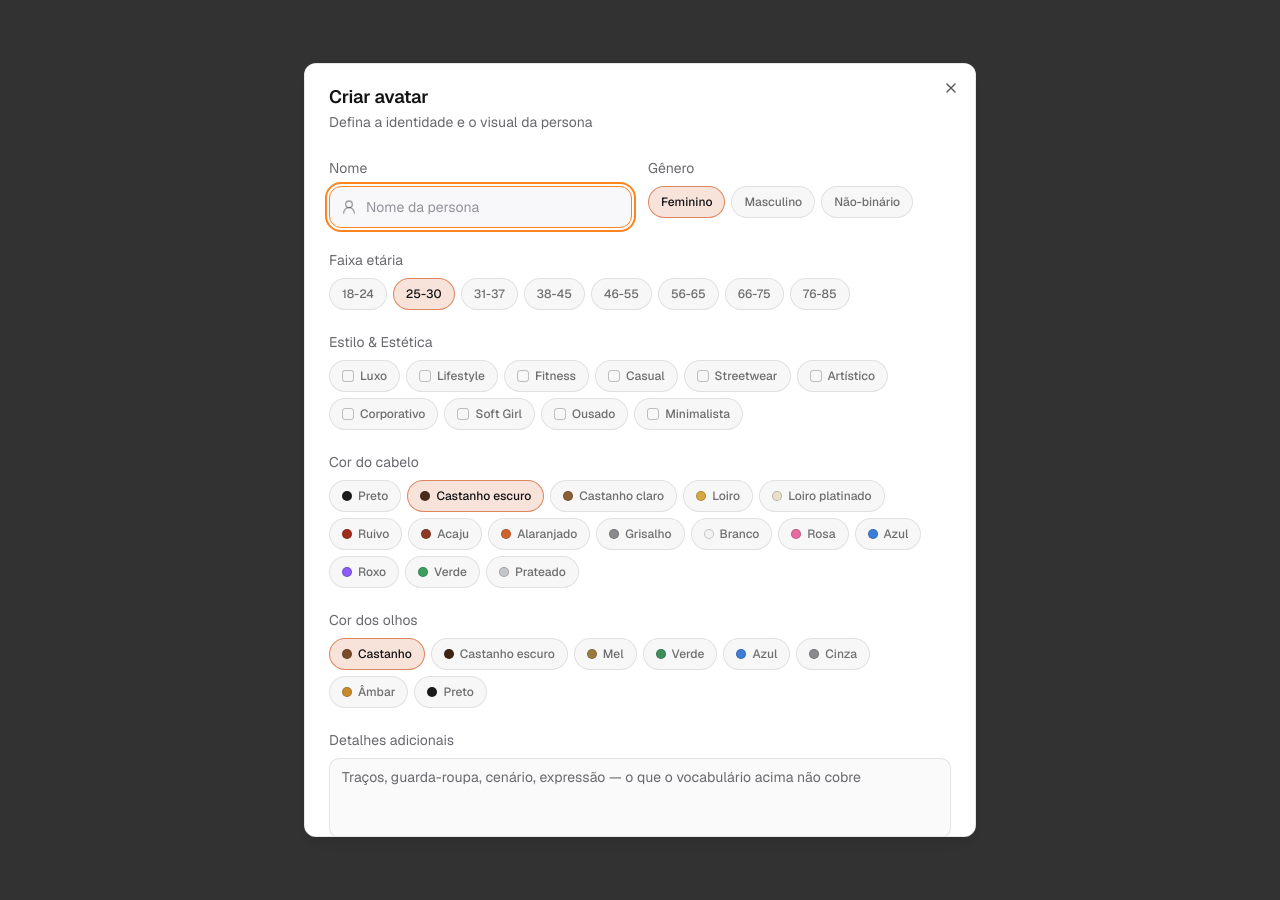
Scenario: AvatarCustomizerDialog › estilo acumula: escolher dois mantém os dois marcados
Click the button "Fitness". click: x=546, y=376
box: [504, 360, 589, 392]
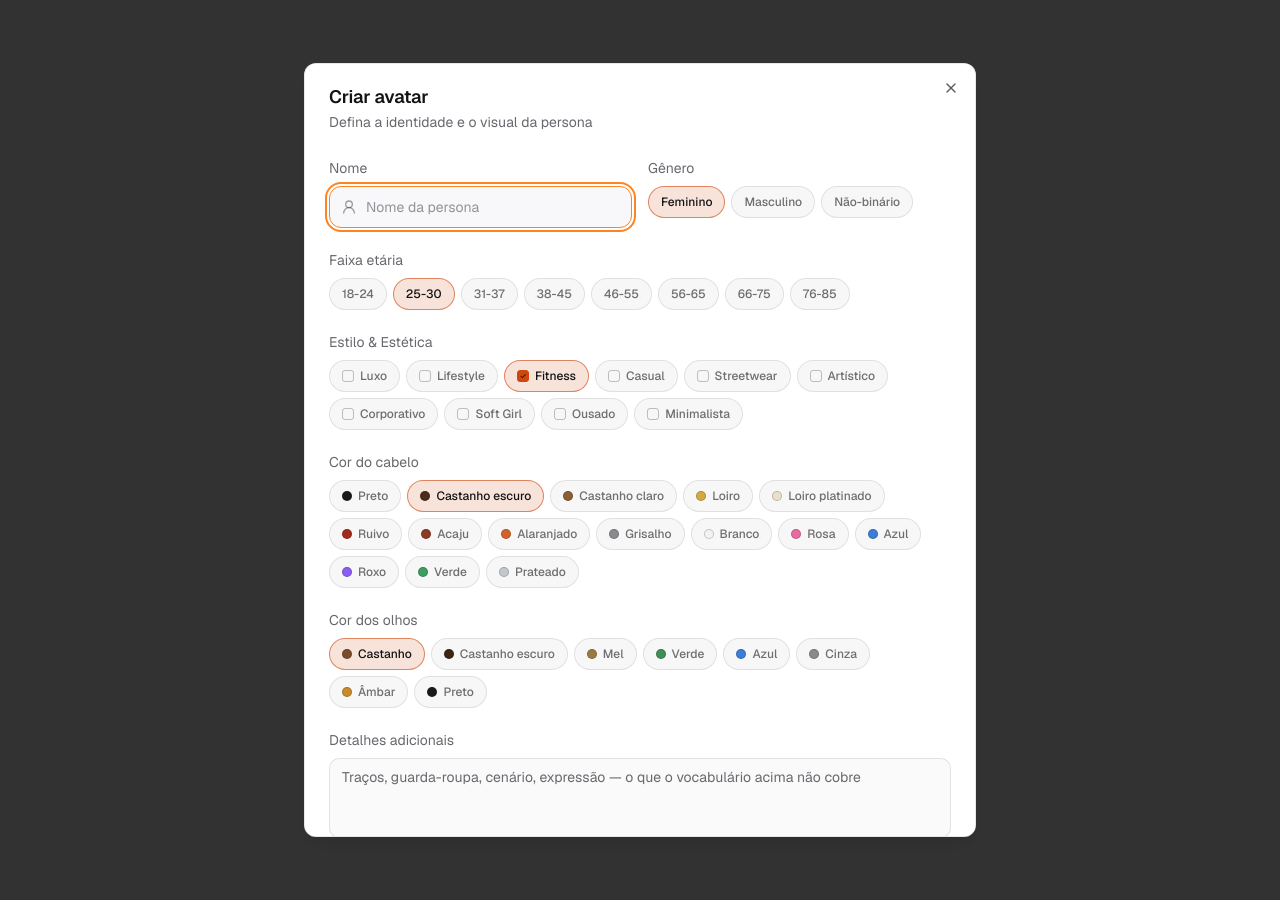
Click the button "Streetwear". click: x=737, y=376
box: [684, 360, 791, 392]
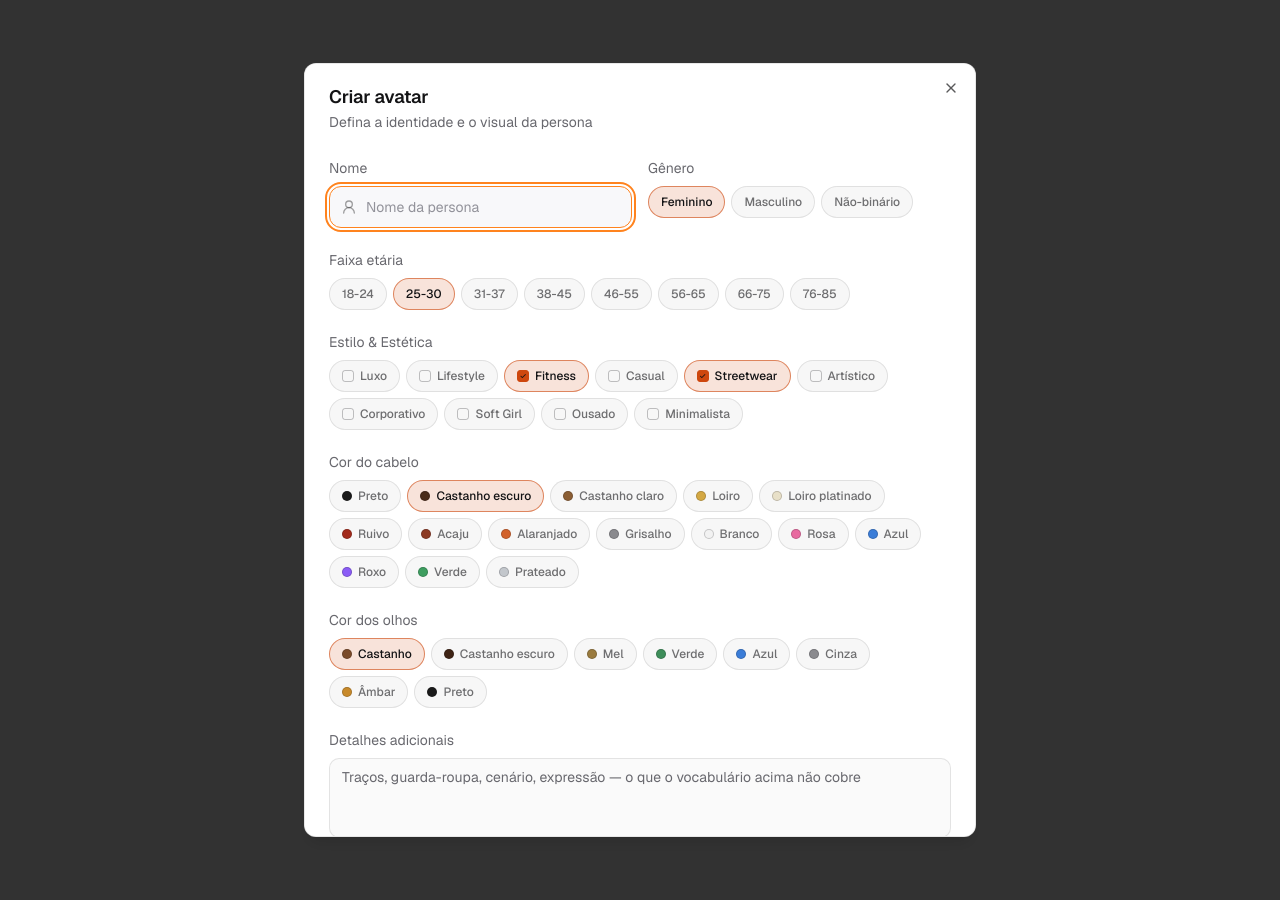
Expected: the button "✓ Fitness" is pressed, [504, 360, 589, 392]
Expected: the button "✓ Streetwear" is pressed, [684, 360, 791, 392]
